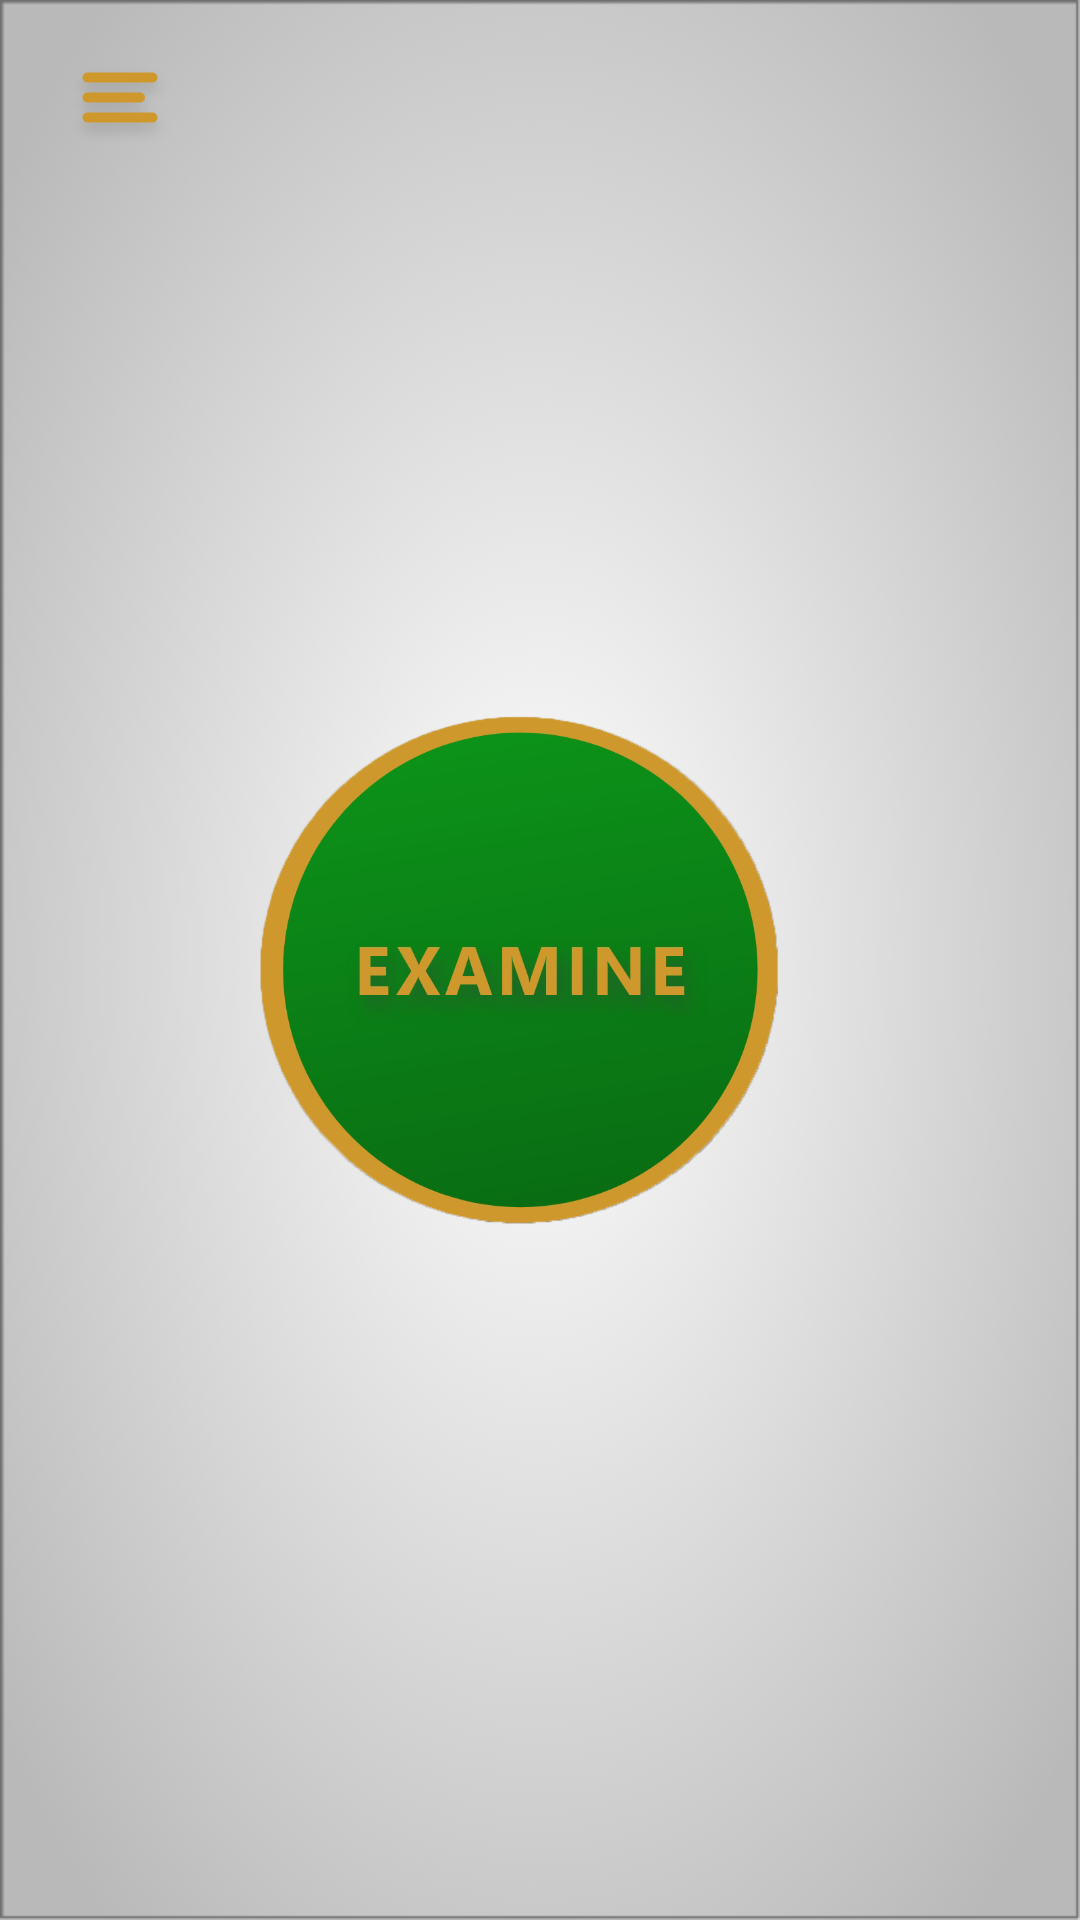

Point at icon controls on the screen. Image size 1080*1920, points as (x=x, y=y).
hamburger: (x=120, y=97)
